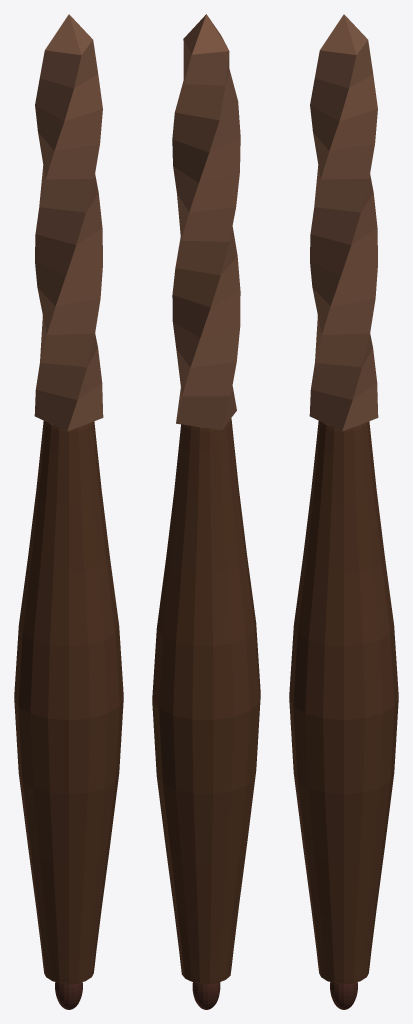
Rendered from Wand 156.glb.
The picture shows the model from 3 angles, left to right: view 1: azimuth 90°, elevation 25°; view 2: azimuth 210°, elevation 25°; view 3: azimuth 270°, elevation 25°; orthographic projection.
Parts seen in each view (by area): view 1: GeneratedWand; view 2: GeneratedWand; view 3: GeneratedWand.
Part boxes in pixels (x1,y1,x2,y2): GeneratedWand: (14,14,123,1009); GeneratedWand: (152,14,260,1009); GeneratedWand: (289,14,398,1009).
Size of the model in its own units: 0.0499 by 0.4991 by 0.0499.
